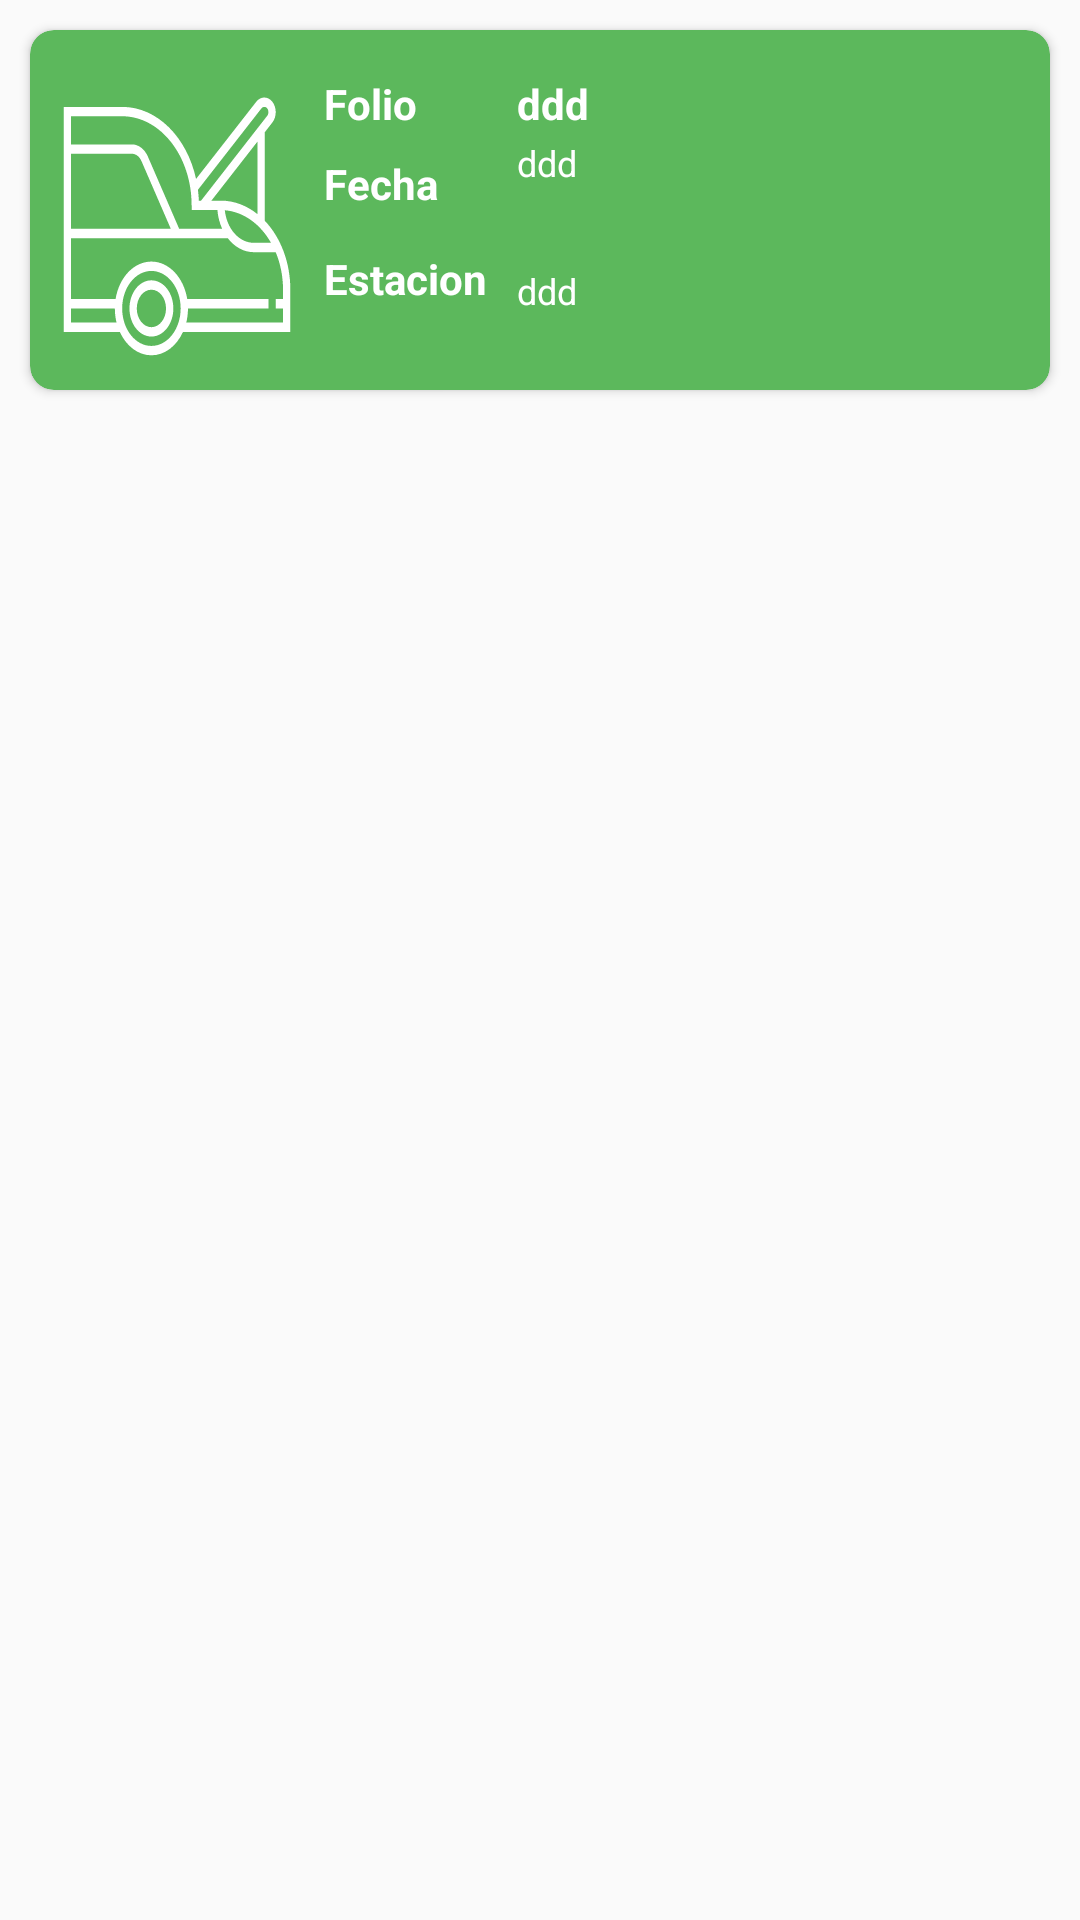

Screen size 1080×1920. Icon name, then its center in pixels as (x,y):
service: (177,226)
